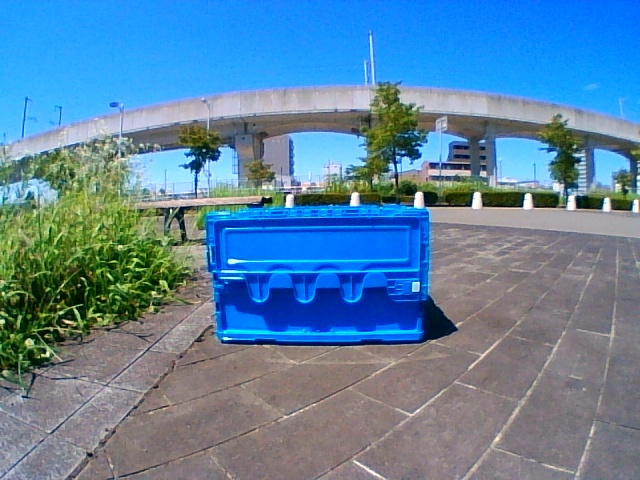blue_box: (217, 212, 423, 338)
